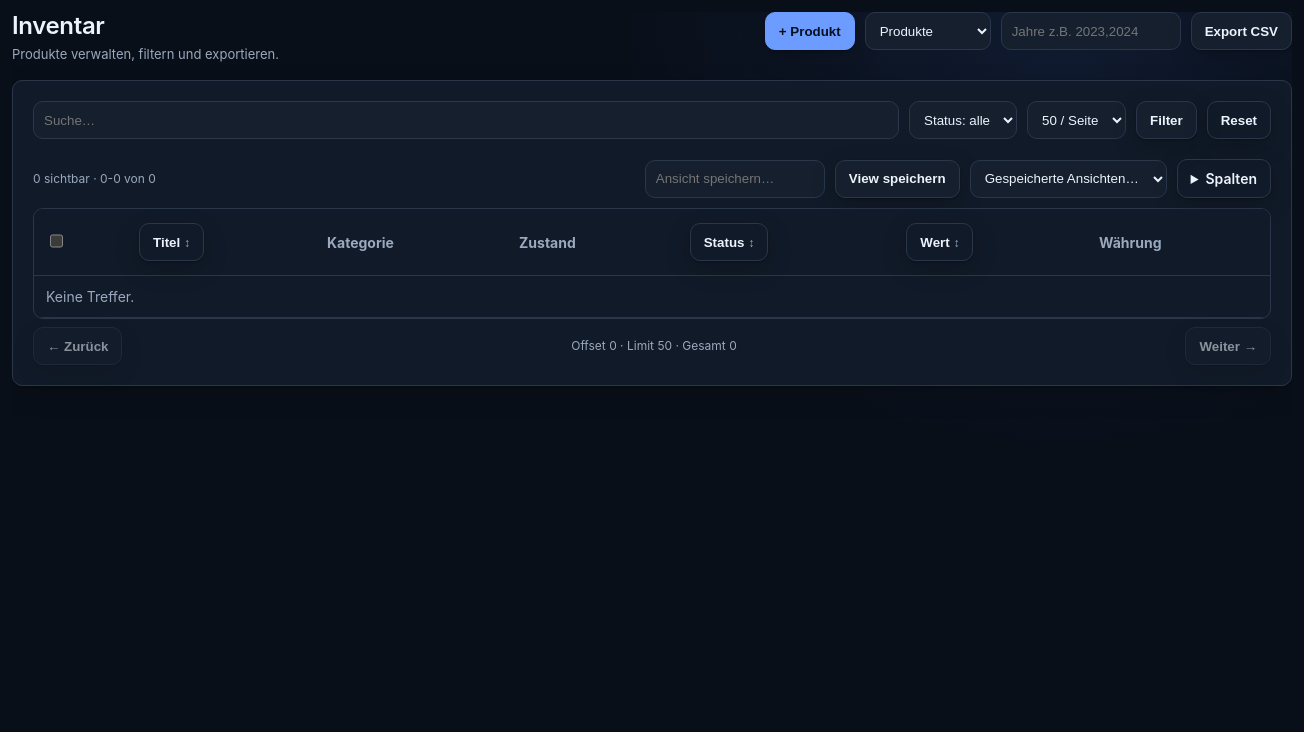
it: ProductsPage › validiert Pflichtfeld im Produktformular über disabled Aktion
The image size is (1304, 732).
Click the button "+ Produkt". click: x=810, y=31
box: [765, 12, 855, 50]
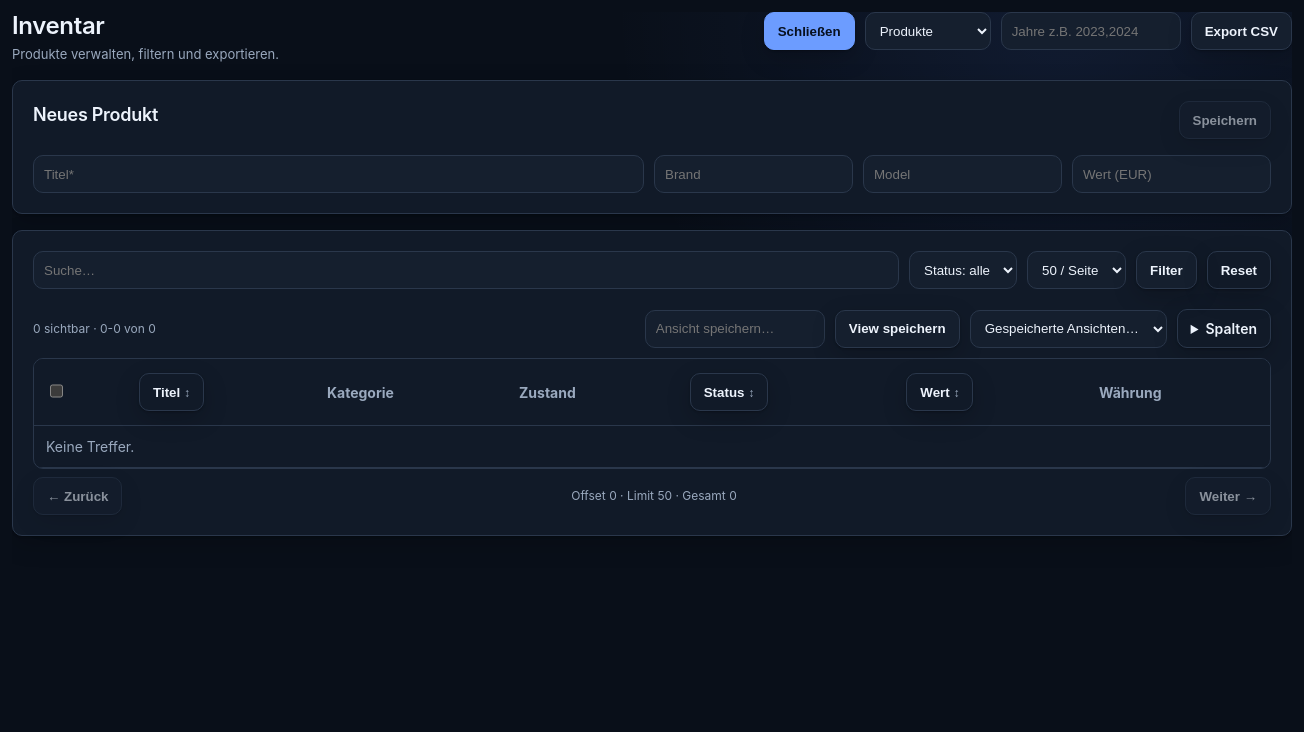
Now the button "Speichern" is disabled, box [1178, 101, 1271, 139]
Type "Neue Kamera" into the field with placeholder "Titel*". click: x=338, y=174
box: [33, 155, 644, 193]
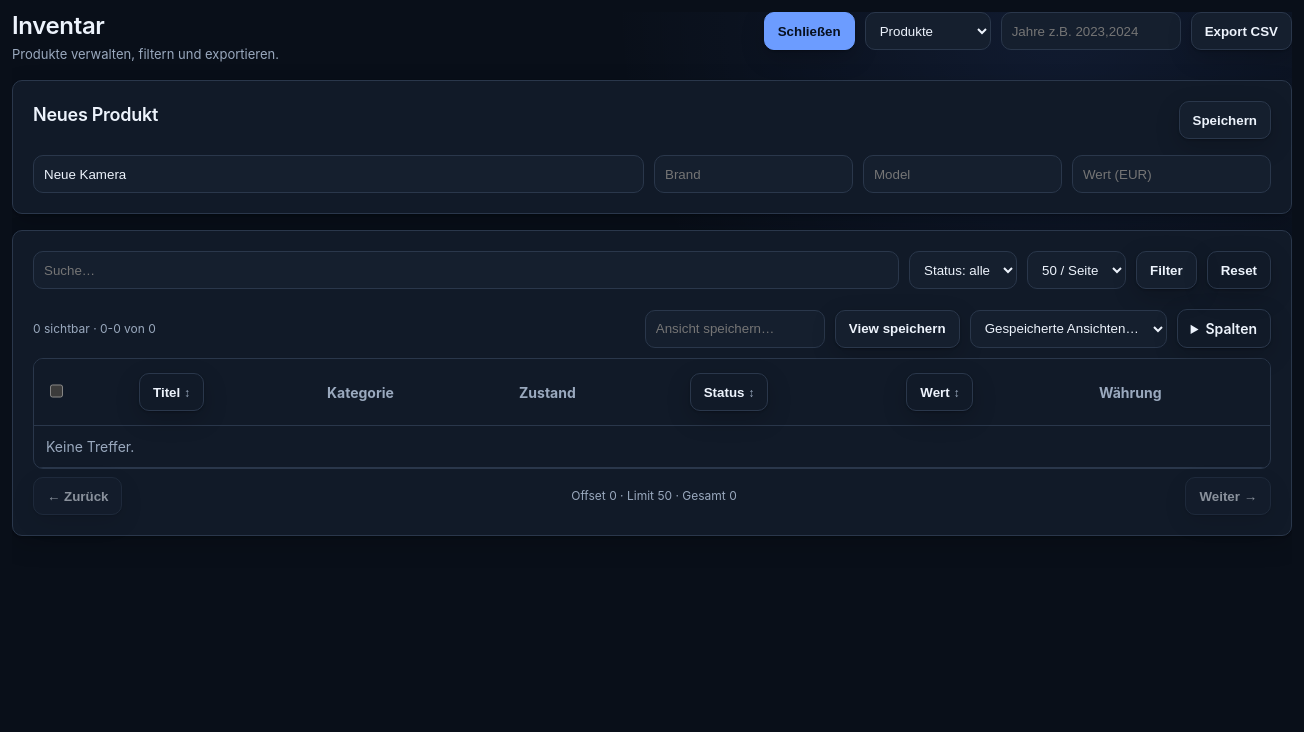
Now the button "Speichern" is enabled, box [1178, 101, 1271, 139]
